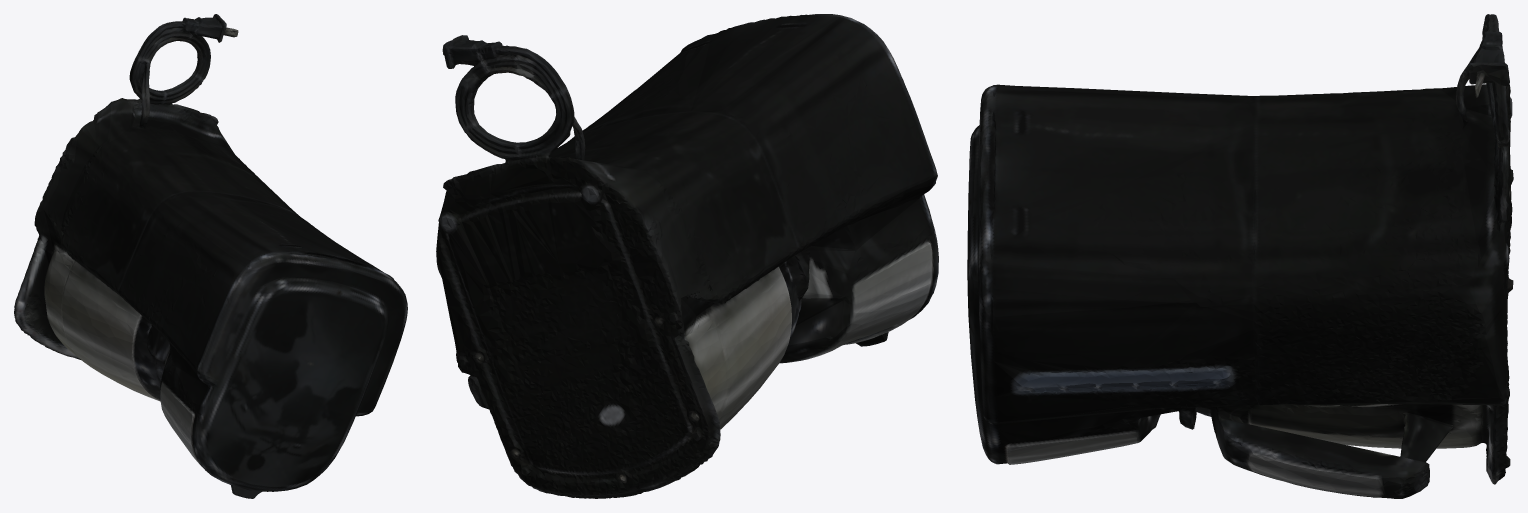
Rendered from Black_Decker_CM2035B_12Cup_Thermal_Coffeemaker.glb.
3 views of the same model, side by side, from view 1: azimuth 30°, elevation 25°; view 2: azimuth 150°, elevation 25°; view 3: azimuth 270°, elevation 25° (orthographic). The views are drawn at different scales.
Visible parts, largest first — view 1: v0; view 2: v0; view 3: v0.
Boxes of the visible parts, bbox=[...] form: v0: bbox=[14, 14, 407, 498]; v0: bbox=[436, 14, 938, 498]; v0: bbox=[967, 14, 1513, 498].
Size of the model in its own units: 0.2269 by 0.3236 by 0.3369.
Materials: 1 (1 with a texture image).
